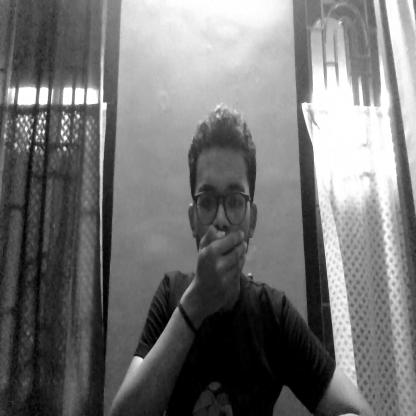Normal: (187, 115, 264, 303)
